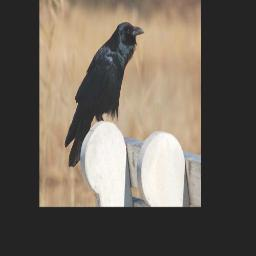Crow: (64, 22, 144, 169)
